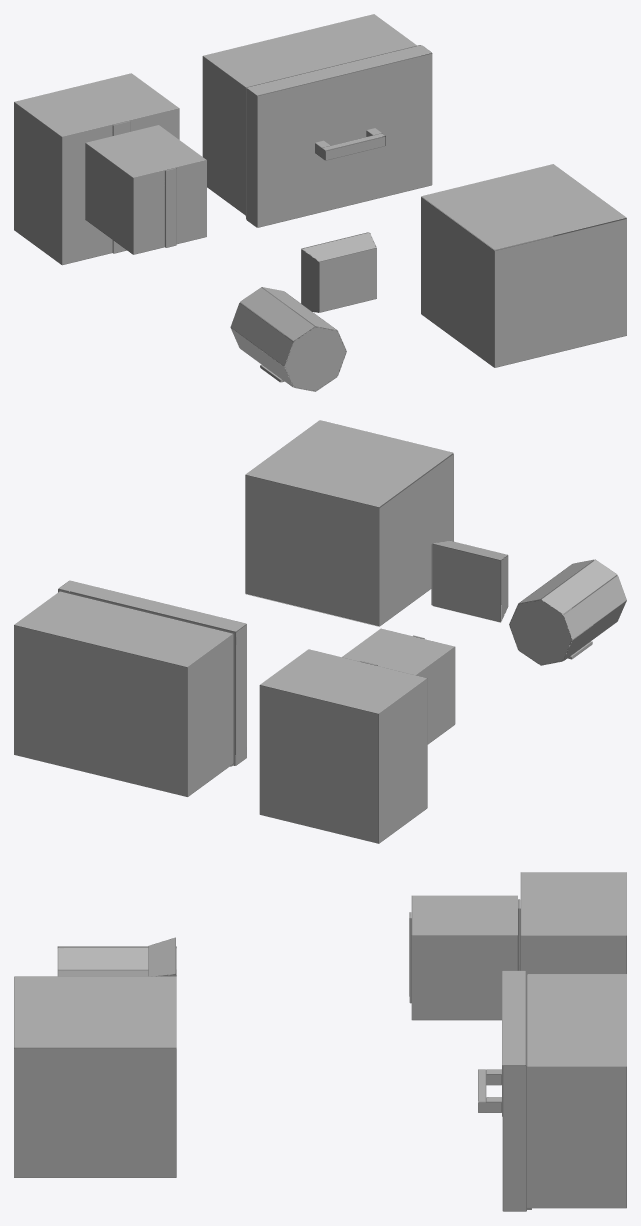
Rendered from contents_books_misc_02_50.obj.
3 renders of one model, top to bottom at view 1: azimuth 30°, elevation 25°; view 2: azimuth 150°, elevation 25°; view 3: azimuth 270°, elevation 25°, orthographic. The views are drawn at different scales.
Parts seen in each view (by area): view 1: contents_books_misc_02_50; view 2: contents_books_misc_02_50; view 3: contents_books_misc_02_50.
Part boxes in pixels (x1,y1,x2,y2): contents_books_misc_02_50: (14,14,626,391); contents_books_misc_02_50: (14,420,626,843); contents_books_misc_02_50: (14,872,626,1211).
Bounding box in the file's own units: 0.739 × 0.264 × 0.98.
1 material, 1 textured.
